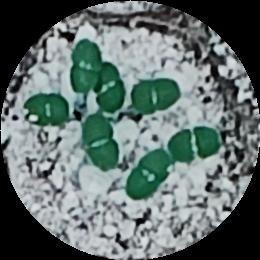Basil: (80, 114, 121, 169), (89, 66, 131, 113), (126, 151, 165, 201), (133, 74, 180, 113), (172, 127, 224, 161), (25, 95, 72, 128), (70, 39, 98, 93)
